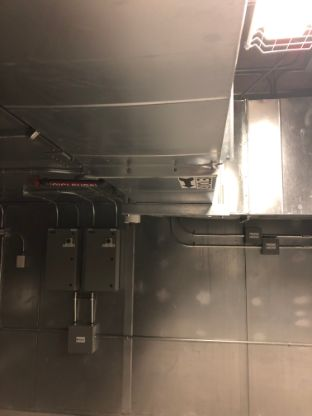Duct: (1, 1, 258, 225), (214, 88, 312, 226)
